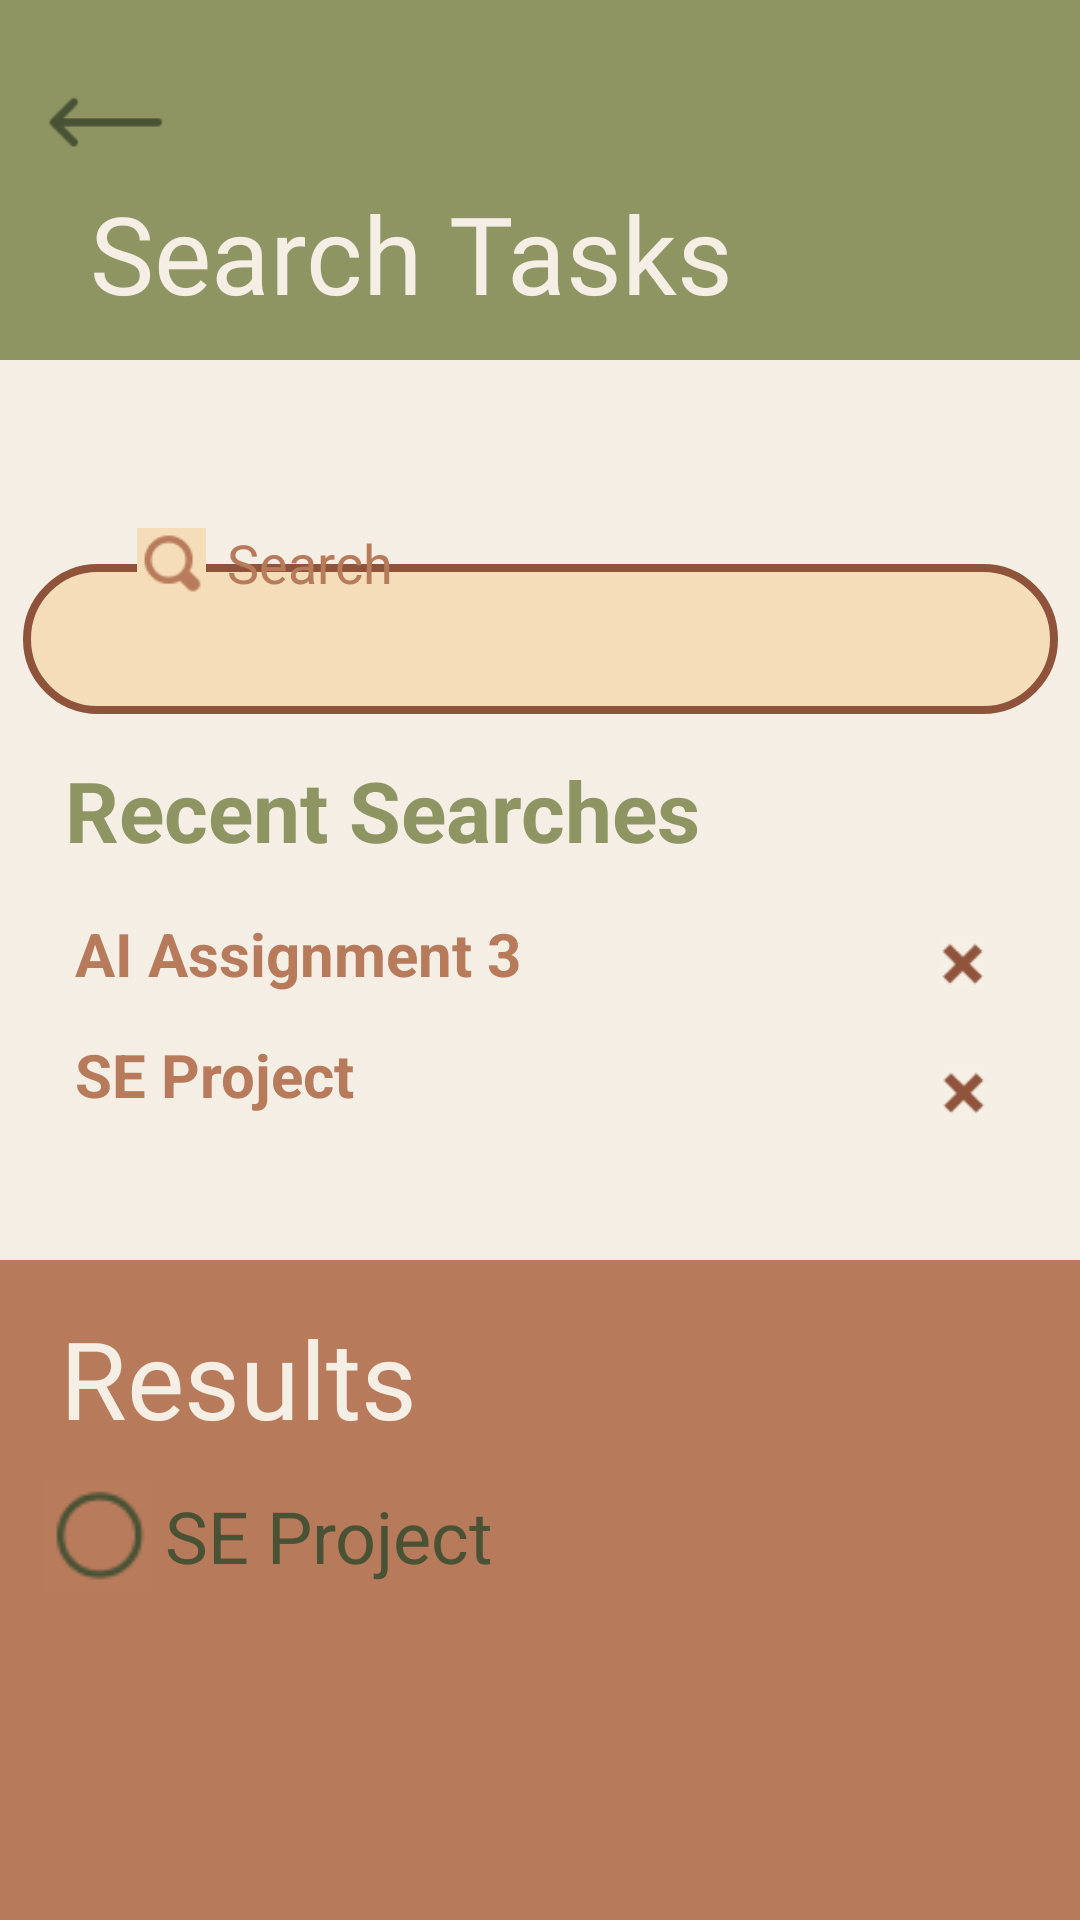

Icons on this 1080w x 1920h Android screen, each with its box as (x1, y1, x2, y2):
arrowback: (50, 98, 162, 147)
cross: (942, 944, 983, 984), (943, 1073, 984, 1113)
taskcircle: (56, 1491, 144, 1579)
